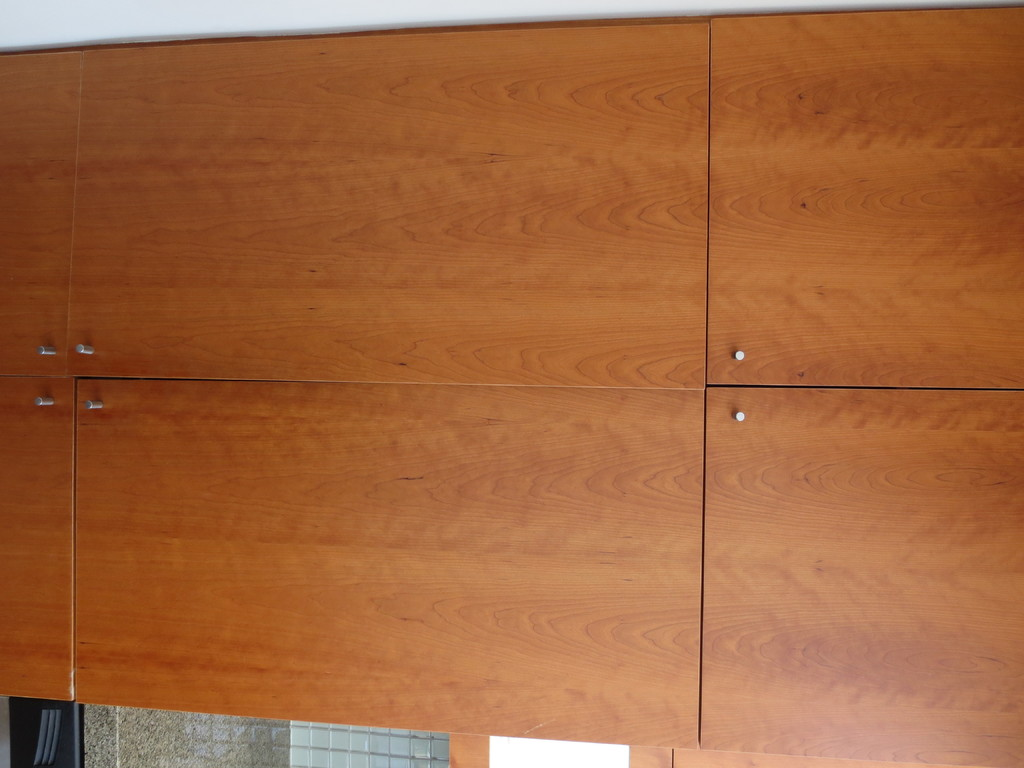cabinet door: (71, 375, 700, 745), (68, 59, 706, 381), (703, 387, 1024, 746), (712, 22, 1024, 388), (3, 380, 76, 701), (15, 51, 71, 379)
handle: (722, 337, 754, 368), (66, 332, 99, 362), (727, 402, 750, 437), (34, 337, 58, 368), (86, 388, 103, 423), (34, 389, 55, 414)
